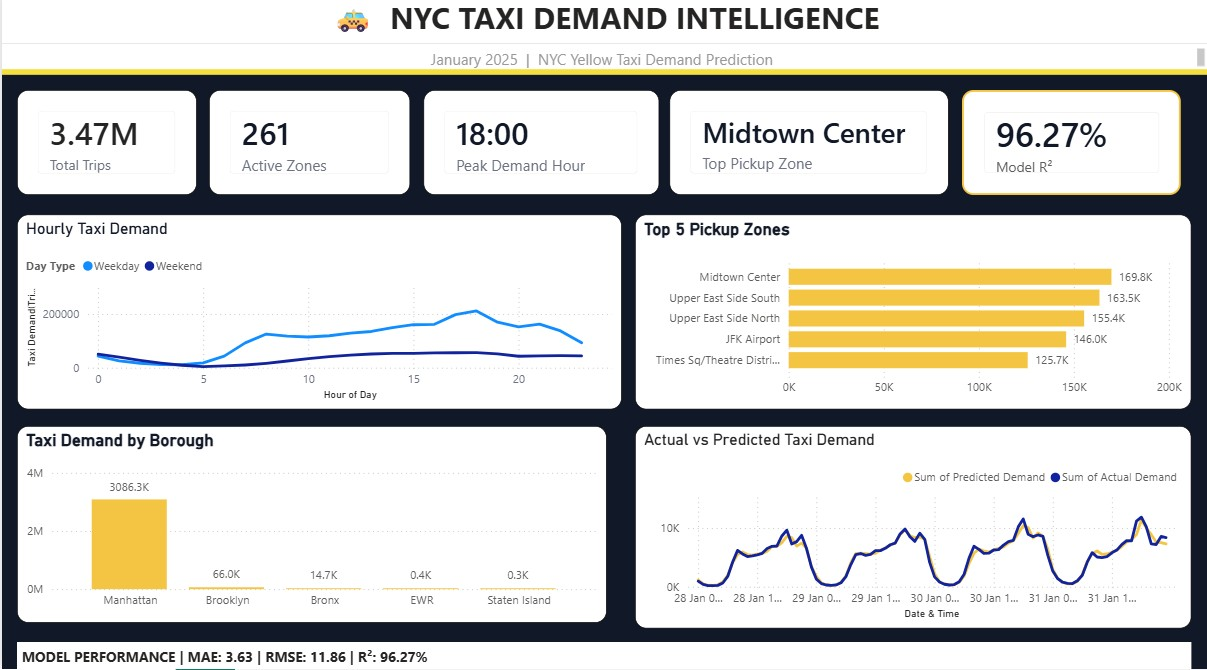

What the dashboard file says about the page in this screenshot:
{"tool":"powerbi","page":{"name":"Executive Dashboard","canvas":[1280,720],"ordinal":0},"visuals":[{"type":"textbox","box":[0,0,1280.4,55.7],"z":0},{"type":"textbox","box":[0,55.7,1280.4,30.2],"z":1000},{"type":"shape","box":[0,11.1,1280.4,149.5],"z":2000},{"type":"cardVisual","fields":{"Data":["Query1.Total Trips"]},"box":[15.9,105,190.9,111.3],"z":3000},{"type":"cardVisual","fields":{"Data":["Query1.Active Zones"]},"box":[219.5,105,213.1,111.3],"z":4000},{"type":"cardVisual","fields":{"Data":["Query1.Peak Demand Hour"]},"box":[447,105,249.7,111.3],"z":5000},{"type":"cardVisual","fields":{"Data":["Query1.Top Pickup Zone"]},"box":[707.8,105,295.9,111.3],"z":6000},{"type":"cardVisual","fields":{"Data":["Query1.Model R²"]},"box":[1018,105,232.2,111.3],"z":7000},{"type":"lineChart","title":"Hourly Taxi Demand","fields":{"Category":["Query1.pickup_hour"],"Series":["Query1.day_type"],"Y":["Sum(Query1.demand)"]},"box":[15.9,237,641,206.8],"z":8000},{"type":"clusteredBarChart","title":"Top 5 Pickup Zones","fields":{"Category":["Query1.pickup_zone"],"Y":["Sum(Query1.demand)"]},"box":[671.2,237,590.1,206.8],"z":9000},{"type":"clusteredColumnChart","title":"Taxi Demand by Borough","fields":{"Category":["Query1.pickup_borough"],"Y":["Sum(Query1.demand)"]},"box":[15.9,461.3,625.1,208.4],"z":10000},{"type":"lineChart","title":"Actual vs Predicted  Taxi Demand","fields":{"Category":["ML Predictions.datetime"],"Y":["Sum(ML Predictions.predicted_demand)","Sum(ML Predictions.demand)"]},"box":[671.2,461.3,590.1,214.7],"z":11000},{"type":"textbox","box":[15.9,690.3,1245.4,30.2],"z":12000}]}

Visuals, with their boxes in screenshot pixels (x1, y1, x2, y2), scaled from the page's 1280x720 canvas onto the 1207x670 screenshot:
textbox: bbox(0, 0, 1206, 52)
textbox: bbox(0, 52, 1206, 80)
shape: bbox(0, 10, 1206, 149)
cardVisual - Query1.Total Trips: bbox(15, 98, 195, 201)
cardVisual - Query1.Active Zones: bbox(207, 98, 408, 201)
cardVisual - Query1.Peak Demand Hour: bbox(422, 98, 657, 201)
cardVisual - Query1.Top Pickup Zone: bbox(667, 98, 946, 201)
cardVisual - Query1.Model R²: bbox(960, 98, 1179, 201)
"Hourly Taxi Demand" lineChart: bbox(15, 221, 619, 413)
"Top 5 Pickup Zones" clusteredBarChart: bbox(633, 221, 1189, 413)
"Taxi Demand by Borough" clusteredColumnChart: bbox(15, 429, 604, 623)
"Actual vs Predicted  Taxi Demand" lineChart: bbox(633, 429, 1189, 629)
textbox: bbox(15, 642, 1189, 669)
